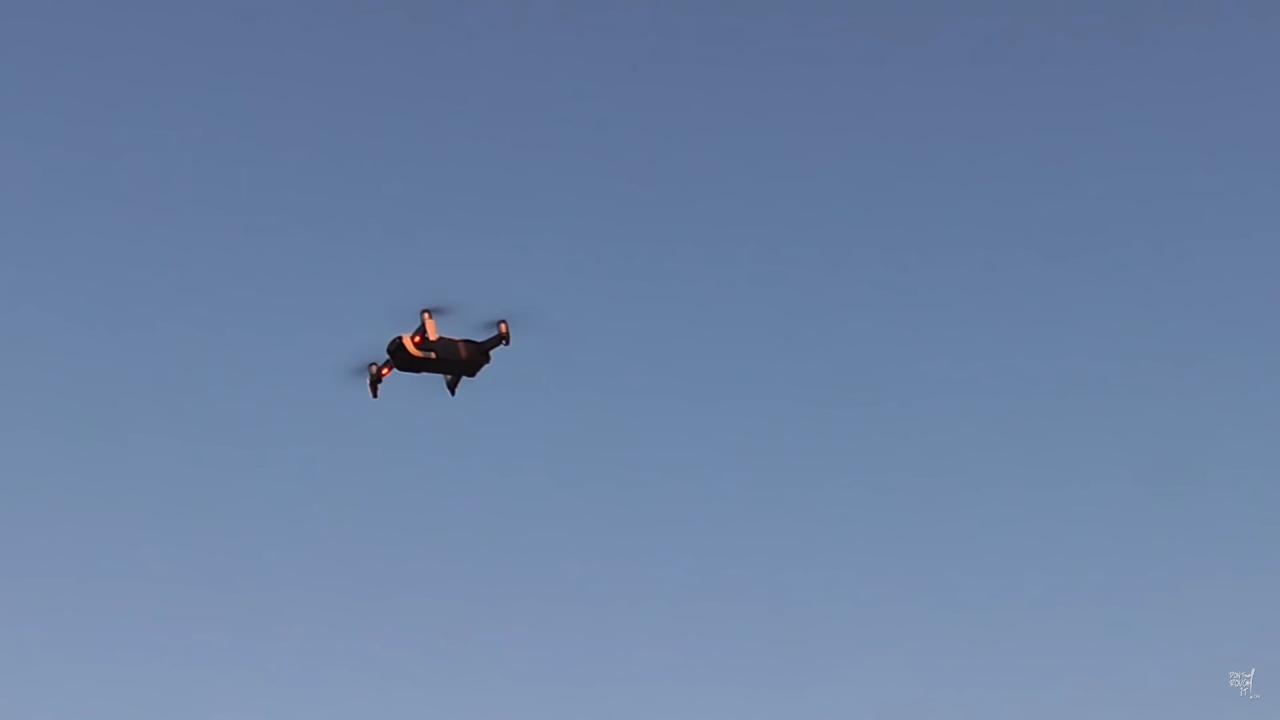Drone: (348, 290, 524, 410)
